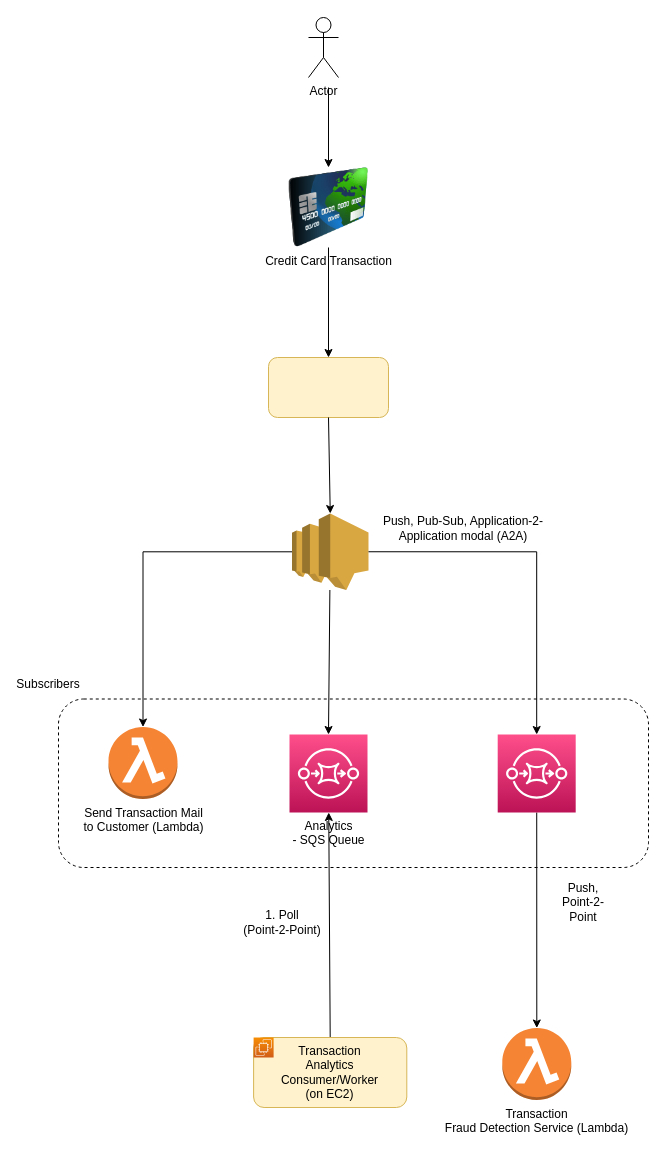
Image size: 666x1153. Some labels were removed from this diagram. The shapes that lost their labels are listed below. From the top down, each one's centre as x and y in pixels, then its label:
At point (328, 387): "Transaction Processing Service".
At point (329, 551): "Transaction SNS Topic".
At point (536, 773): "Fraud Detection - SQS Queue".
